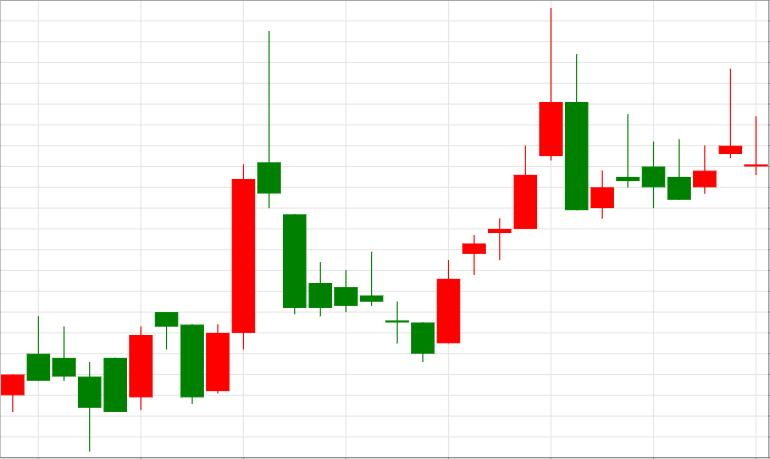shooting_star_fall: (78, 31, 281, 451)
